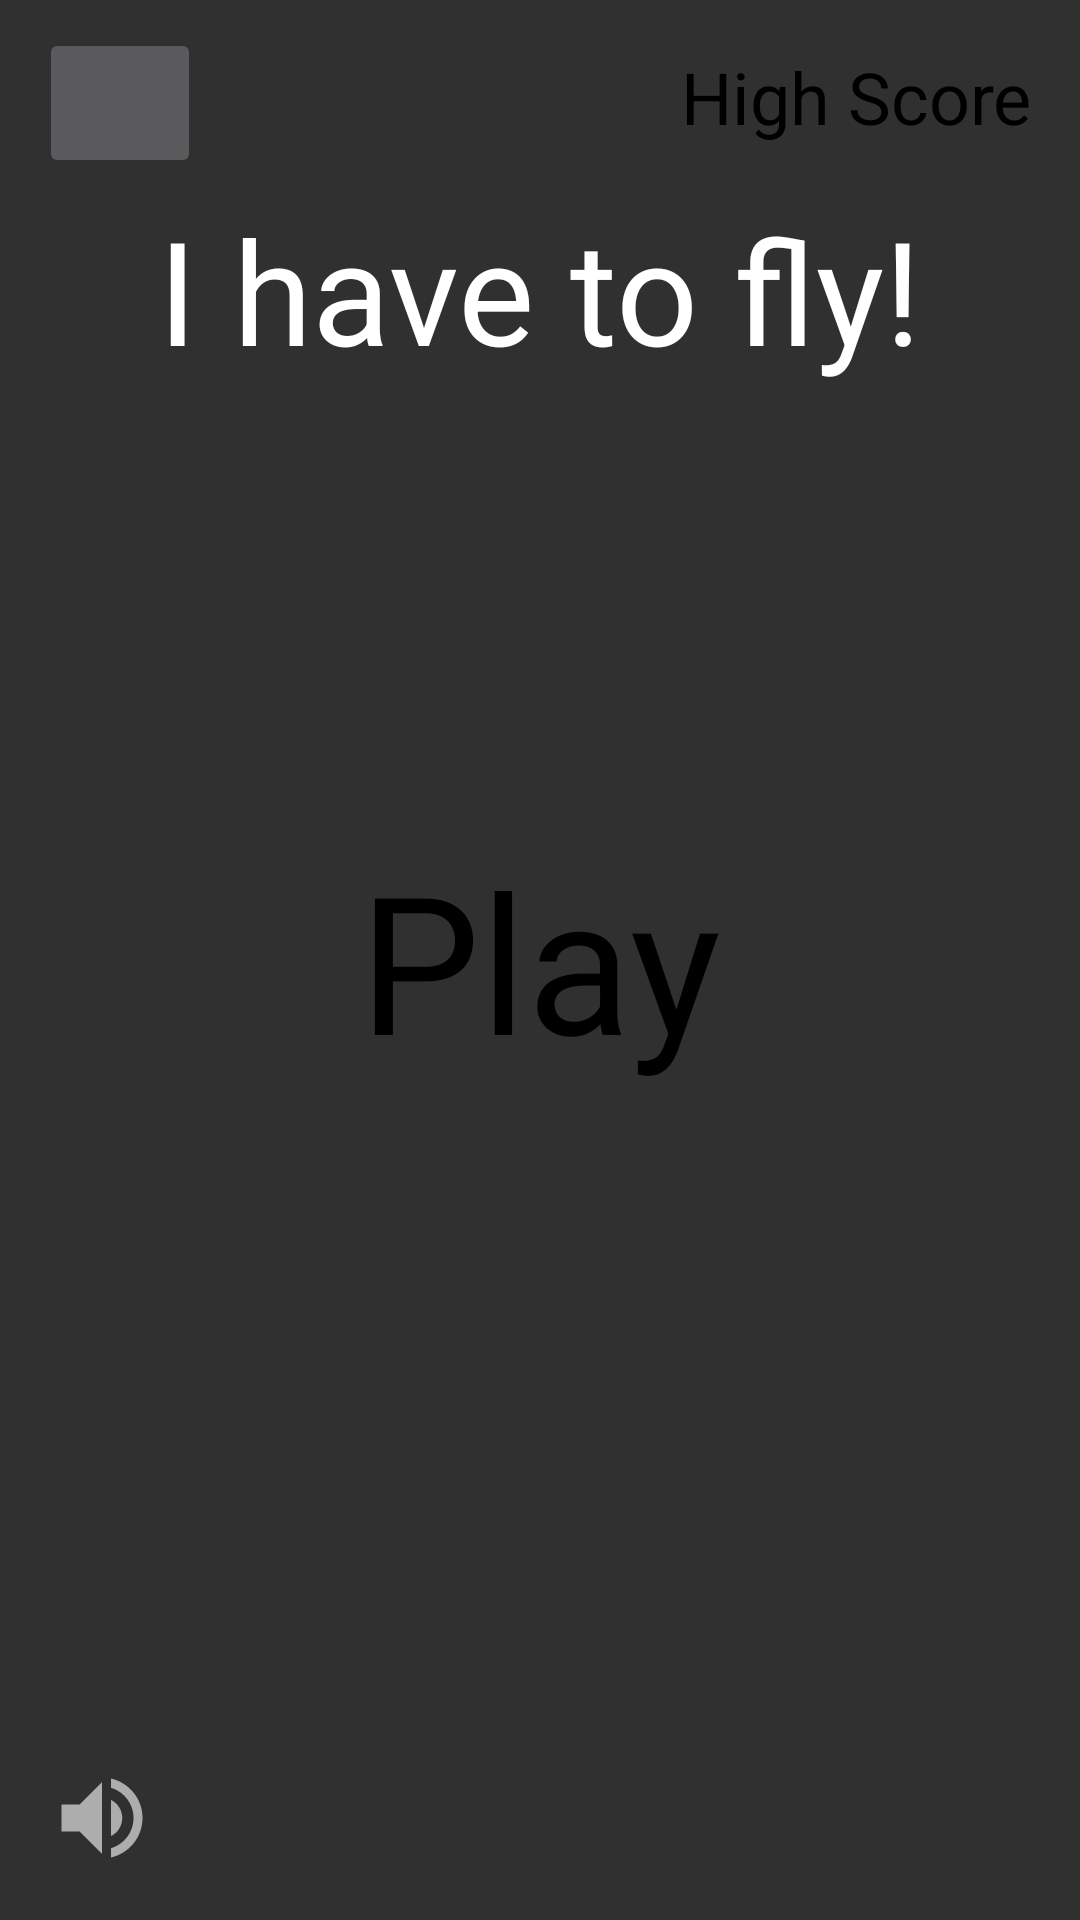

Screen size 1080×1920. Icon name, then its box in pixels as [left=x1, top=y1, right=x2, bottom=y2]:
volume up: [left=61, top=1778, right=143, bottom=1858]
